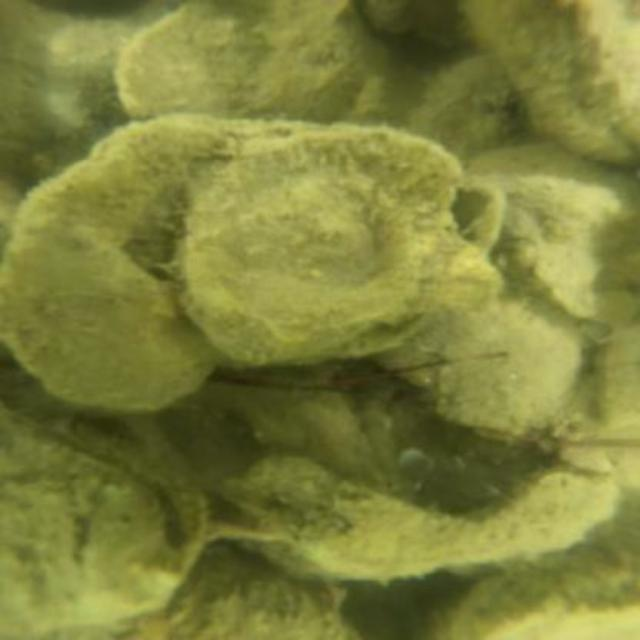Oyster-Closed: (8, 120, 220, 411), (227, 455, 614, 576), (0, 402, 179, 639), (114, 1, 411, 127), (470, 142, 640, 325), (453, 1, 638, 166), (381, 296, 586, 439), (421, 529, 639, 640), (179, 548, 366, 640), (420, 53, 519, 156)
Oyster-Open: (180, 129, 500, 368)
